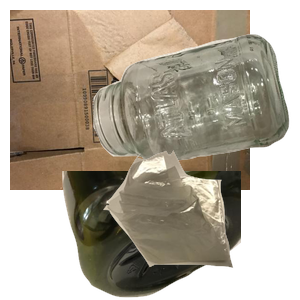cardboard: (10, 10, 250, 190)
glass: (91, 32, 300, 189)
plastic: (60, 171, 300, 300)
trash: (101, 148, 300, 300)
